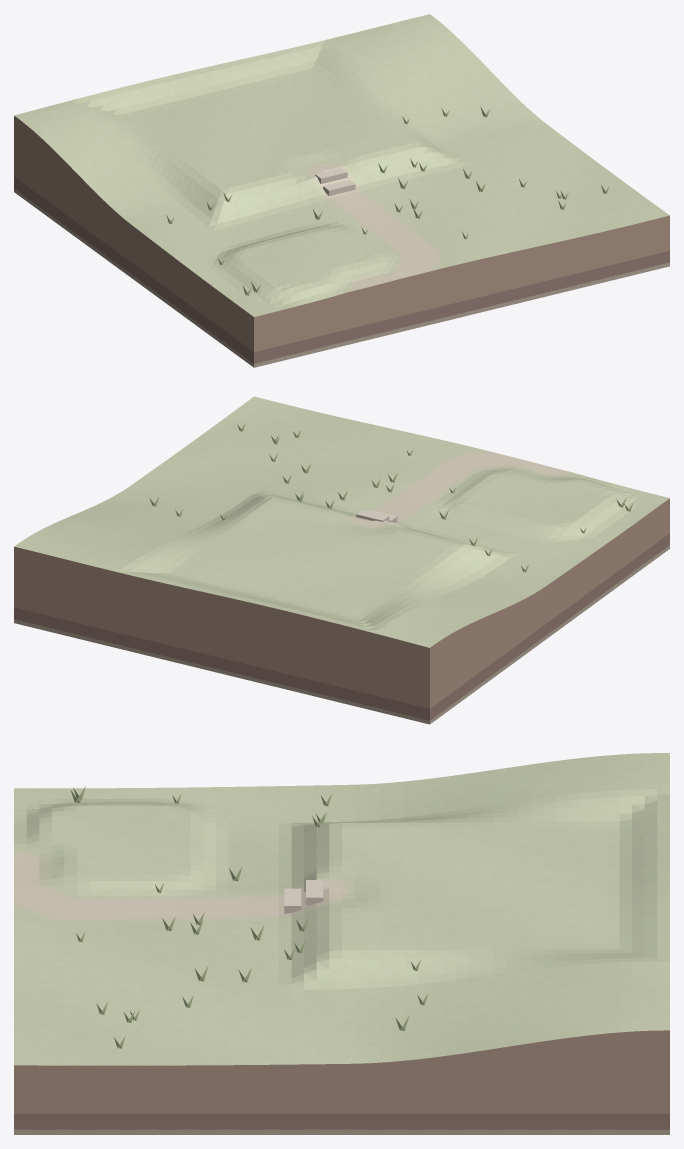
File: D12_proc.glb
3 renders of one model, top to bottom at view 1: azimuth 30°, elevation 25°; view 2: azimuth 150°, elevation 25°; view 3: azimuth 270°, elevation 25°, orthographic. The views are drawn at different scales.
Parts seen in each view (by area): view 1: proc_ground, proc_skirt, proc_grass, proc_steps; view 2: proc_ground, proc_skirt, proc_grass; view 3: proc_ground, proc_skirt, proc_grass, proc_steps.
Part boxes in pixels (box(x1,y1,x2,y2)): proc_ground: box(14, 14, 669, 316); proc_skirt: box(14, 116, 669, 367); proc_grass: box(166, 106, 609, 295); proc_steps: box(315, 167, 355, 195); proc_ground: box(14, 396, 669, 647); proc_skirt: box(14, 498, 669, 724); proc_grass: box(149, 423, 633, 572); proc_ground: box(14, 753, 669, 1065); proc_skirt: box(14, 1030, 669, 1134); proc_grass: box(70, 786, 428, 1048); proc_steps: box(284, 880, 323, 913).
Bounding box in the file's own units: 8 × 1.44 × 8.
